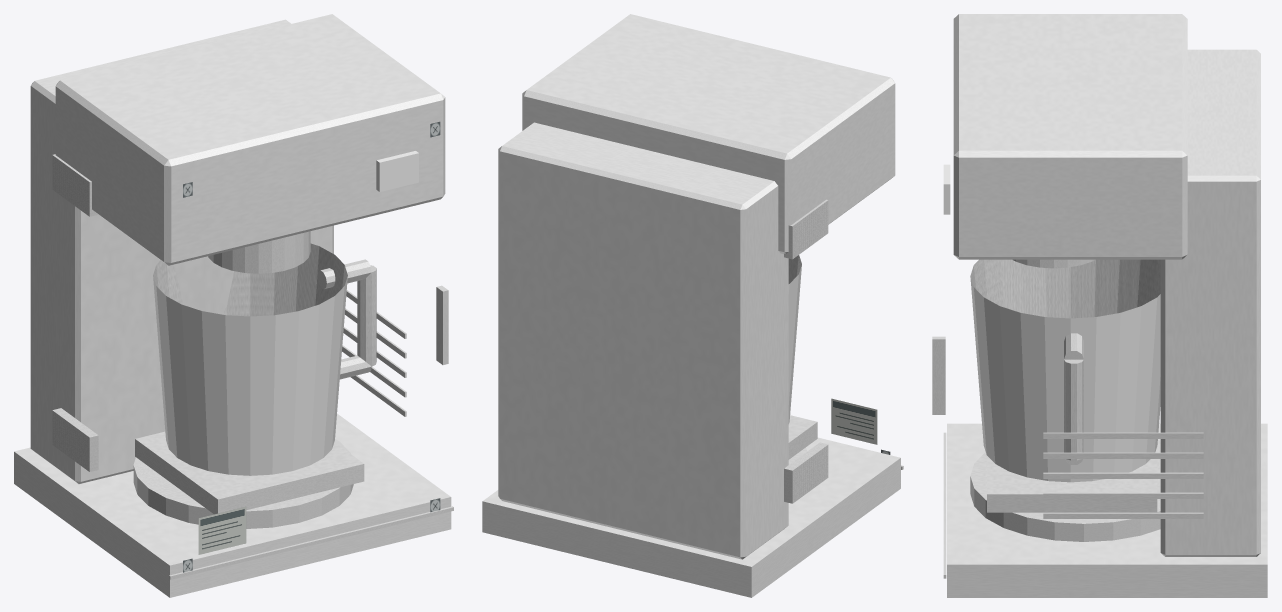
Rendered from kitchencoffeemaker.obj.
3 views of the same model, side by side, from view 1: azimuth 30°, elevation 25°; view 2: azimuth 150°, elevation 25°; view 3: azimuth 270°, elevation 25° (orthographic). The views are drawn at different scales.
Parts seen in each view (by area): view 1: Case, Glass, Trim, Black, Display; view 2: Case, Trim, Glass, Black; view 3: Case, Glass, Trim, Black.
Boxes of the visible parts, box(x1,y1,x2,y2) form: Case: box(14, 14, 451, 597); Glass: box(153, 276, 347, 475); Trim: box(52, 121, 453, 579); Black: box(133, 231, 364, 528); Display: box(376, 151, 418, 191); Case: box(482, 14, 900, 597); Trim: box(784, 199, 903, 503); Glass: box(788, 265, 801, 423); Black: box(788, 415, 817, 464); Case: box(947, 14, 1267, 597); Glass: box(970, 276, 1160, 482); Trim: box(932, 259, 1203, 578); Black: box(970, 259, 1160, 541).
Bounding box in the file's own units: 0.508 × 0.735 × 0.502.
